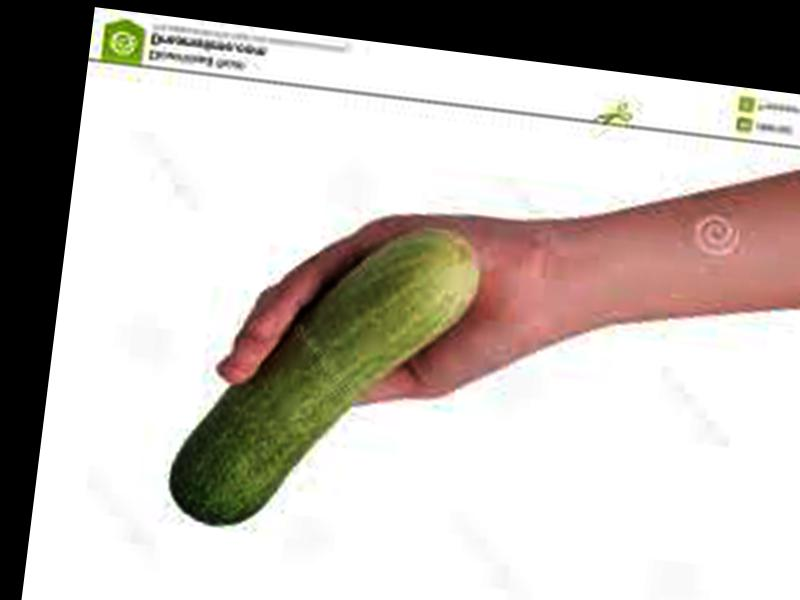Cucumber: (169, 202, 484, 551)
